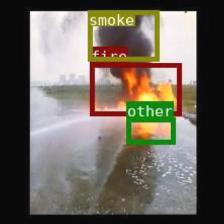fire: (90, 62, 181, 115)
smoke: (87, 9, 158, 61)
